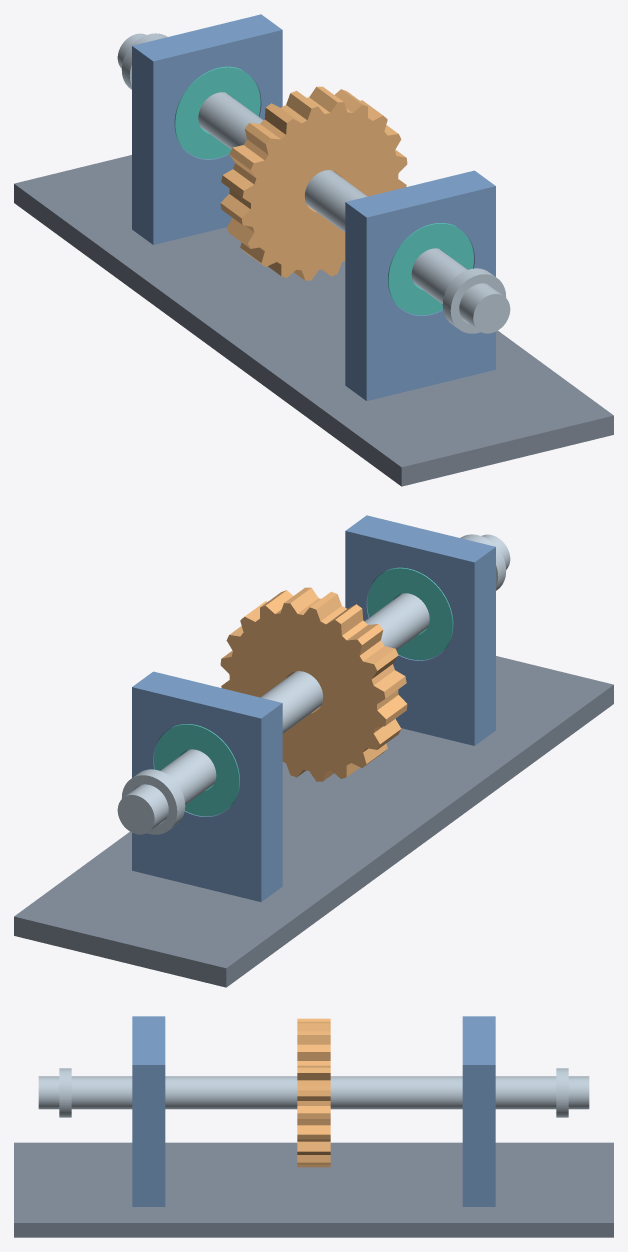
The model's file is assembly.glb.
3 views of the same model, one above another, from view 1: azimuth 30°, elevation 25°; view 2: azimuth 150°, elevation 25°; view 3: azimuth 270°, elevation 25° (orthographic). The views are drawn at different scales.
Visible parts, largest first — view 1: base, rear_housing, gear, front_housing, shaft, front_bearing, rear_bearing, rear_retainer; view 2: base, front_housing, gear, rear_housing, shaft, rear_bearing, front_bearing, front_retainer; view 3: base, shaft, front_housing, rear_housing, gear, front_retainer, rear_retainer.
Boxes of the visible parts, x1,y1,x2,y2 form: base: (14,155,613,486); rear_housing: (345,170,495,400); gear: (220,86,407,280); front_housing: (132,14,282,244); shaft: (117,33,510,333); front_bearing: (174,66,260,159); rear_bearing: (388,223,473,315); rear_retainer: (442,268,506,333); base: (14,656,613,987); front_housing: (132,671,282,901); gear: (220,587,407,781); rear_housing: (345,515,495,745); shaft: (117,534,510,834); rear_bearing: (367,567,453,660); front_bearing: (154,724,239,816); front_retainer: (121,769,185,834); base: (14,1142,613,1237); shaft: (38,1076,589,1109); front_housing: (462,1016,495,1206); rear_housing: (132,1016,165,1206); gear: (297,1018,330,1167); front_retainer: (556,1068,568,1117); rear_retainer: (59,1068,71,1117).
Bounding box in the file's own units: 0.0464 × 0.0464 × 0.1467.
